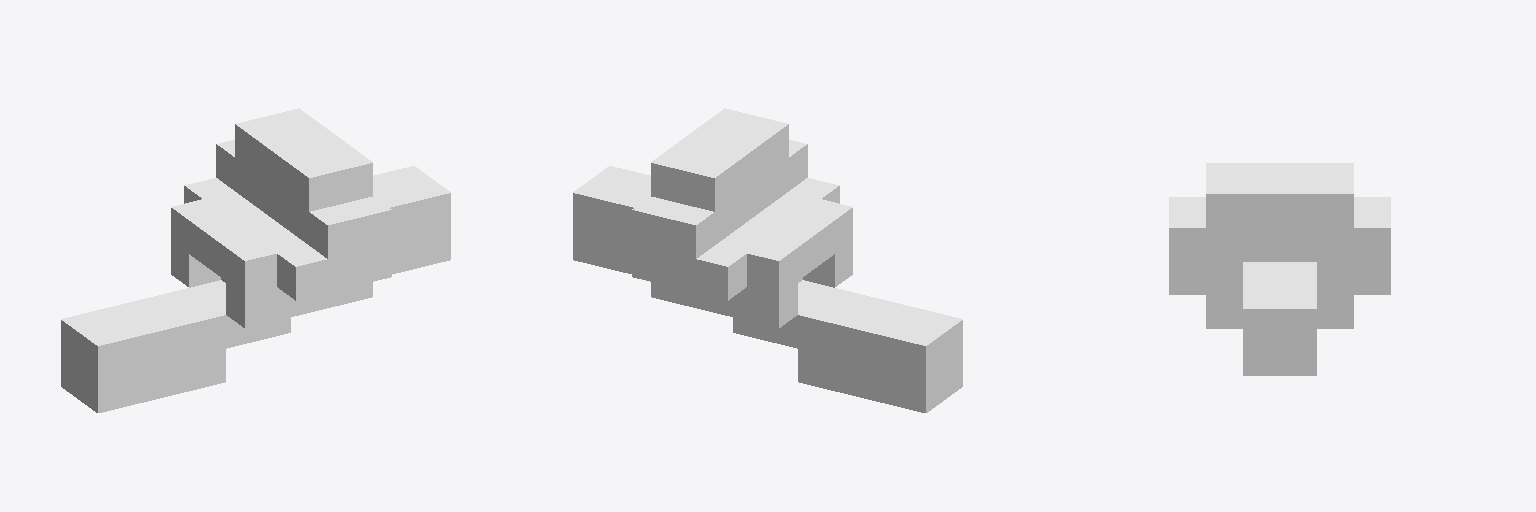
Rendered from Leg-36.obj.
The picture shows the model from 3 angles: view 1: azimuth 30°, elevation 25°; view 2: azimuth 150°, elevation 25°; view 3: azimuth 270°, elevation 25°; orthographic projection.
Parts seen in each view (by area): view 1: object 1; view 2: object 1; view 3: object 1.
Boxes of the visible parts, box(x1,y1,x2,y2) form: object 1: box(61, 108, 450, 412); object 1: box(573, 108, 962, 412); object 1: box(1169, 163, 1390, 375).
Size of the model in its own units: 1.1 by 0.6 by 0.6.